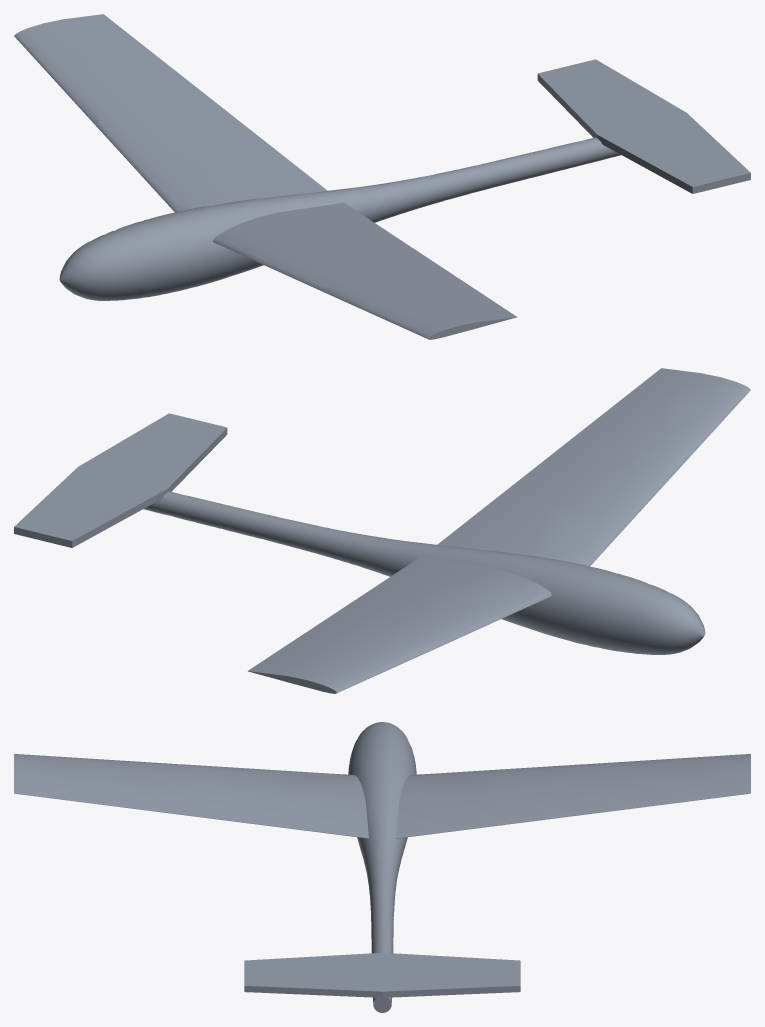
Rendered from step-3-preview-1.glb.
3 views of the same model, one above another, from view 1: azimuth 30°, elevation 25°; view 2: azimuth 150°, elevation 25°; view 3: azimuth 270°, elevation 25° (orthographic). The views are drawn at different scales.
Visible parts, largest first — view 1: preview_13, preview_1, preview_12, preview_4, preview_5; view 2: preview_12, preview_1, preview_13, preview_4, preview_0; view 3: preview_12, preview_13, preview_4, preview_1, preview_7, preview_9.
Boxes of the visible parts, bbox=[...] form: preview_13: bbox=[14, 14, 327, 212]; preview_1: bbox=[59, 137, 621, 300]; preview_12: bbox=[213, 202, 516, 338]; preview_4: bbox=[538, 59, 750, 186]; preview_5: bbox=[597, 135, 692, 193]; preview_12: bbox=[437, 368, 750, 566]; preview_1: bbox=[143, 491, 705, 654]; preview_13: bbox=[248, 556, 551, 692]; preview_4: bbox=[14, 413, 226, 540]; preview_0: bbox=[72, 489, 167, 547]; preview_12: bbox=[14, 754, 368, 838]; preview_13: bbox=[396, 754, 750, 838]; preview_4: bbox=[244, 952, 520, 991]; preview_1: bbox=[348, 722, 416, 1002]; preview_7: bbox=[244, 986, 382, 997]; preview_9: bbox=[382, 986, 520, 997].
Bounding box in the file's own units: 0.14 × 0.0201 × 0.16.
